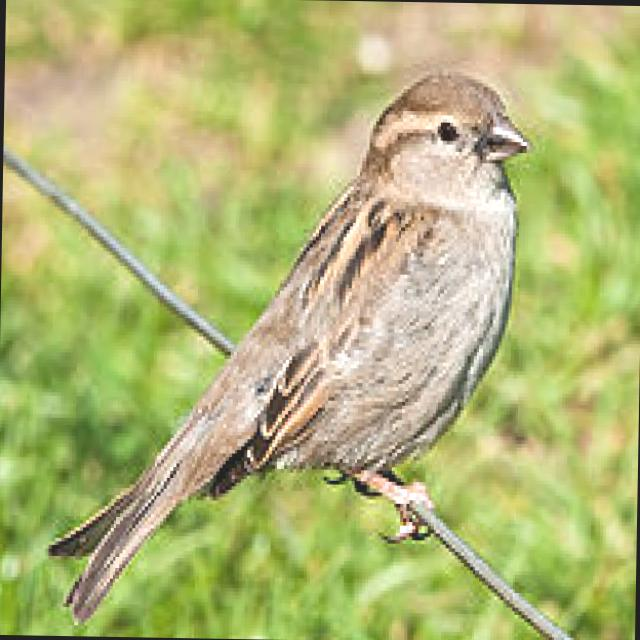bird: (34, 49, 533, 640)
